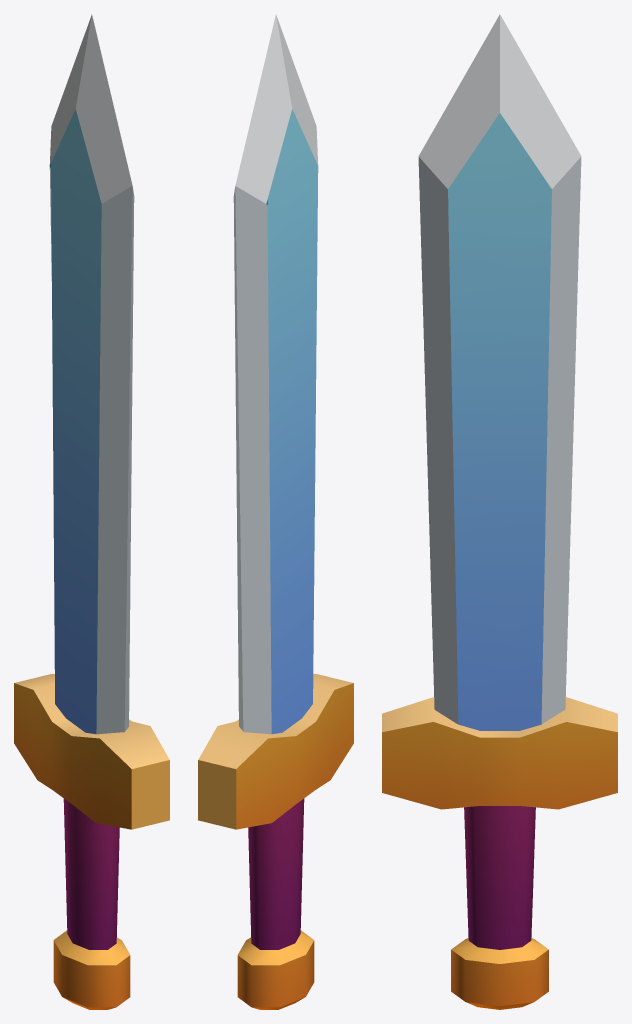
The model's file is Sword_1.fbx.
3 views of the same model, side by side, from view 1: azimuth 30°, elevation 25°; view 2: azimuth 150°, elevation 25°; view 3: azimuth 270°, elevation 25° (orthographic).
Visible parts, largest first — view 1: Sword_1; view 2: Sword_1; view 3: Sword_1.
Boxes of the visible parts, x1,y1,x2,y2 form: Sword_1: (14, 14, 169, 1009); Sword_1: (198, 14, 353, 1009); Sword_1: (382, 14, 617, 1009).
Size of the model in its own units: 7.18 by 113 by 24.24.
1 material, 1 textured.
